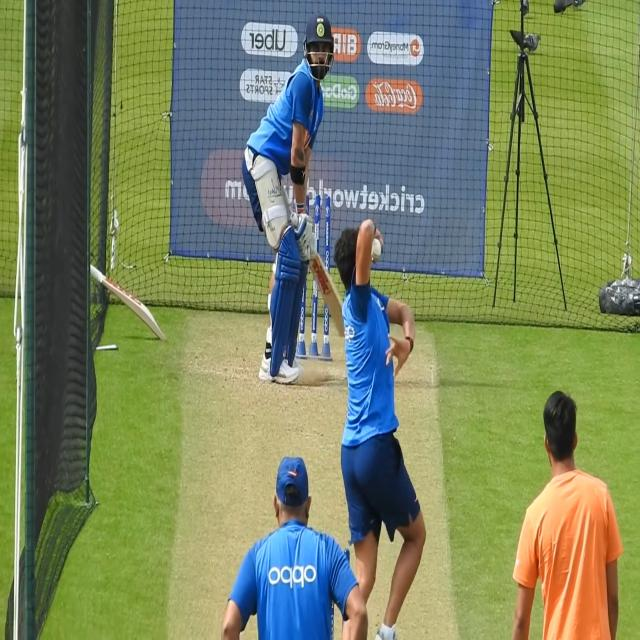stump: (299, 193, 333, 362)
